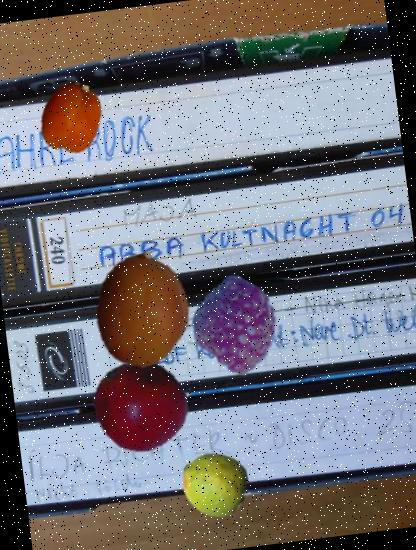Apricot: (80, 249, 204, 373), (32, 78, 110, 156)
Limes: (176, 446, 252, 522)
Pomegranate: (87, 352, 193, 458)
Raspberry: (188, 276, 286, 374)
